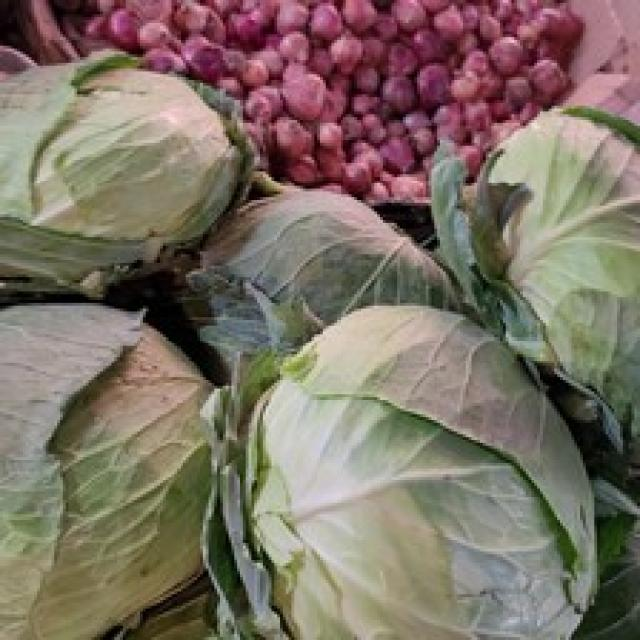Cabbage: (218, 301, 614, 640), (0, 288, 227, 640), (0, 45, 254, 288)
